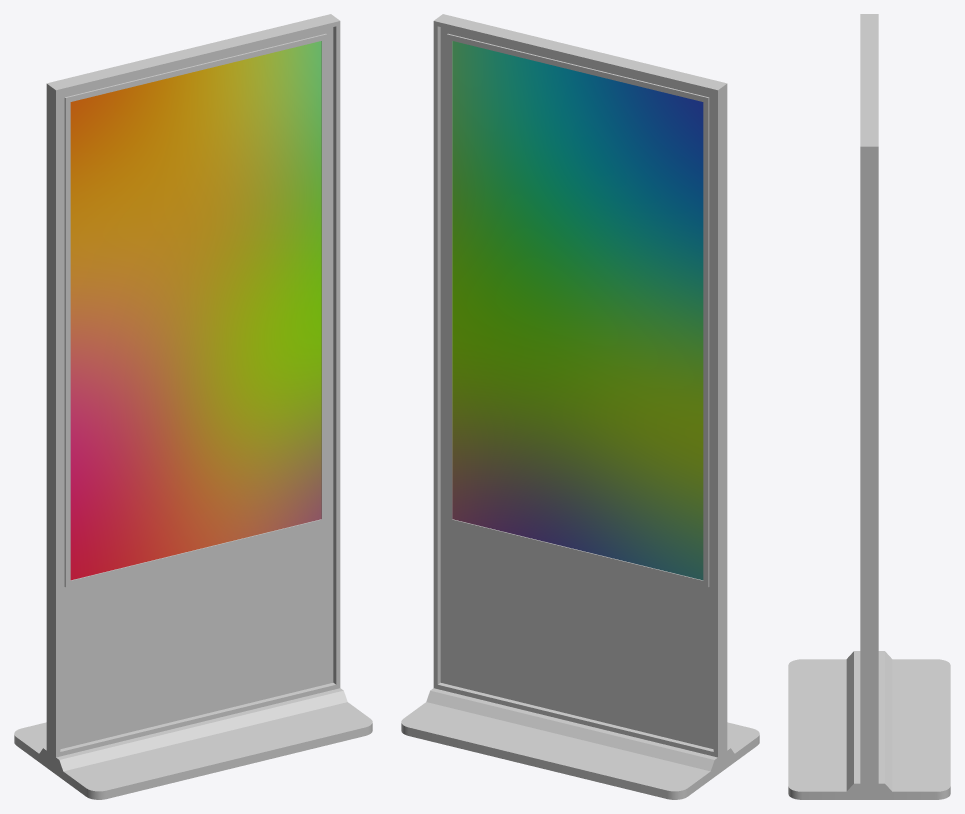
Rendered from digital_information_kiosk_01_large.fbx.
The picture shows the model from 3 angles, left to right: view 1: azimuth 30°, elevation 25°; view 2: azimuth 150°, elevation 25°; view 3: azimuth 270°, elevation 25°; orthographic projection. The views are drawn at different scales.
Parts seen in each view (by area): view 1: digital_information_kiosk_01_large; view 2: digital_information_kiosk_01_large; view 3: digital_information_kiosk_01_large.
Part boxes in pixels (x1,y1,x2,y2): digital_information_kiosk_01_large: (14, 14, 372, 799); digital_information_kiosk_01_large: (401, 14, 759, 799); digital_information_kiosk_01_large: (788, 14, 950, 799).
Bounding box in the file's own units: 87 × 200 × 45.
